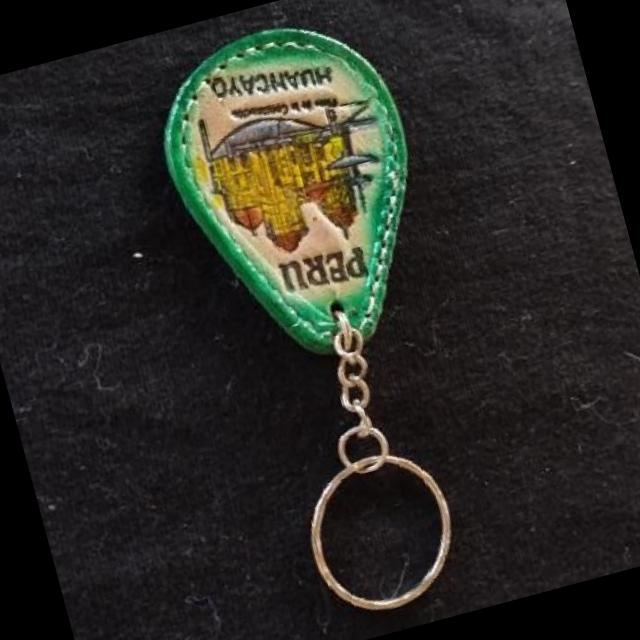Llavero: (138, 0, 458, 386)
